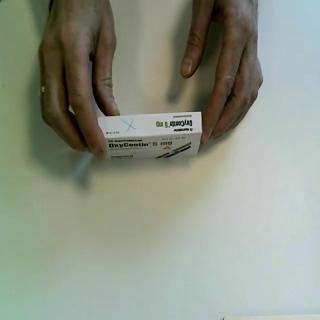oxycontin5mg: (98, 110, 205, 163)
